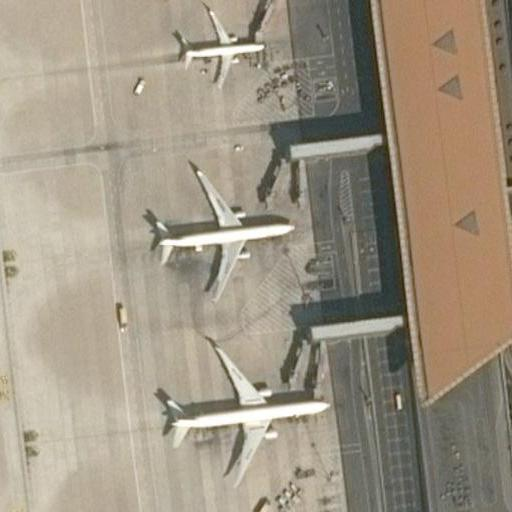Aircraft: (138, 168, 296, 308), (166, 350, 332, 470), (160, 10, 273, 98)
